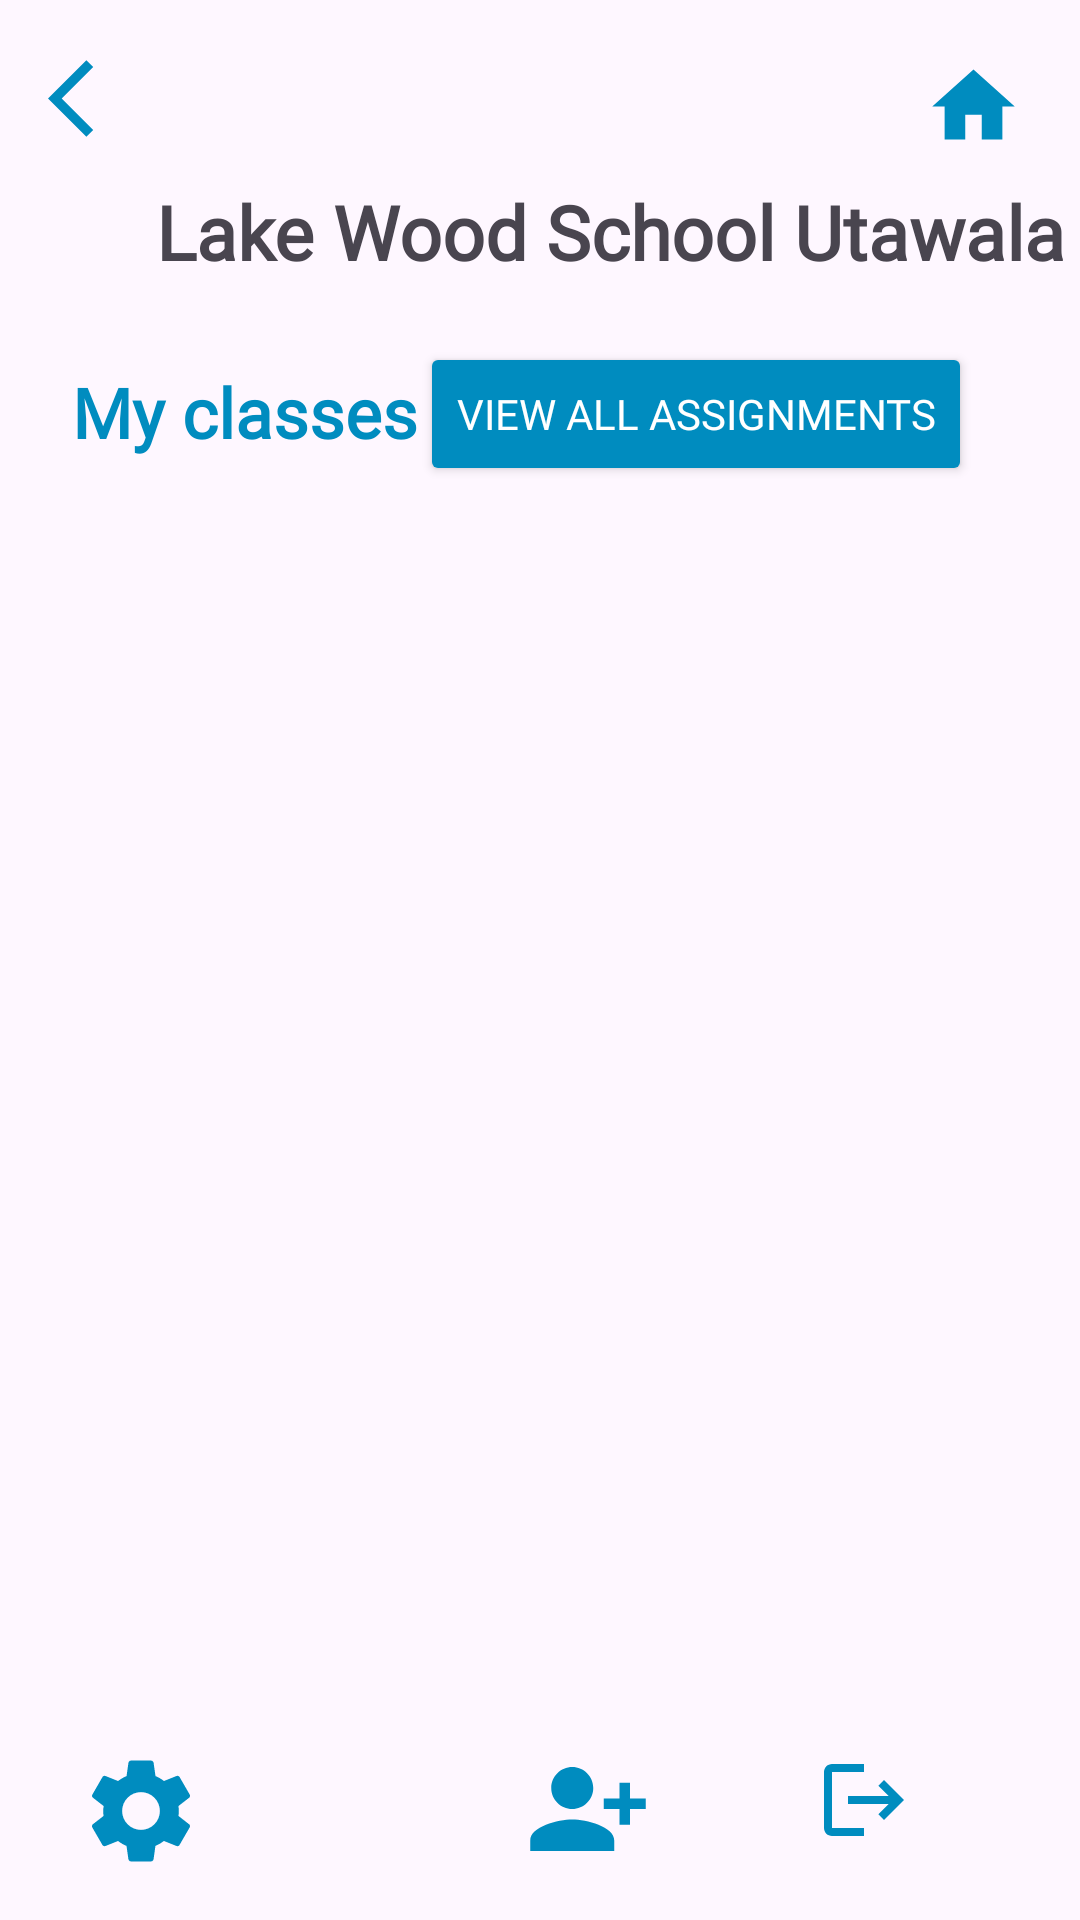

Locate icon controls on the screen. Image size 1080×1920, boxes as (x1, y1, x2, y2).
backarrow: (48, 60, 93, 137)
home: (932, 69, 1015, 140)
person add: (530, 1767, 646, 1851)
settings: (92, 1760, 190, 1862)
